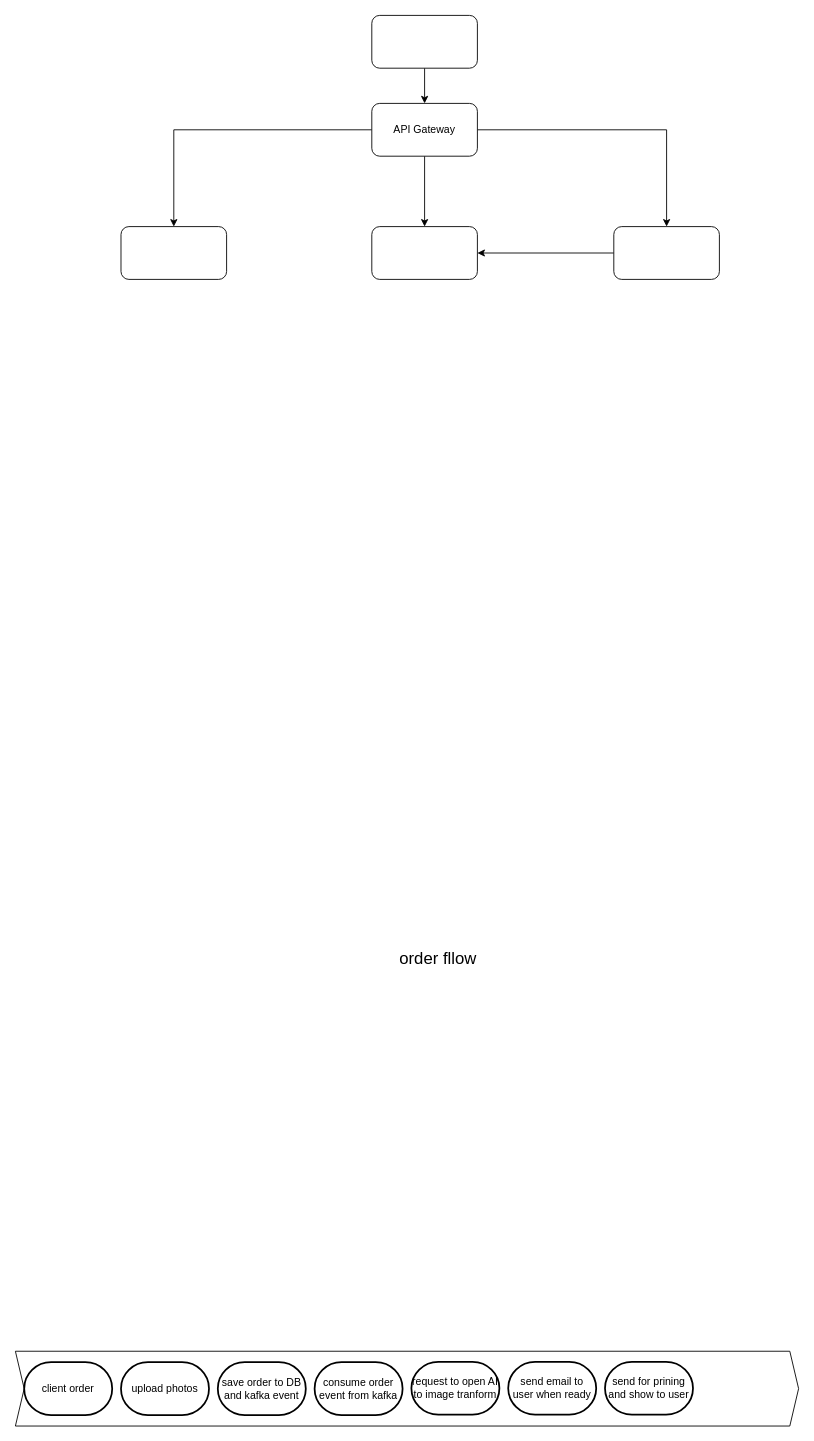
This 814x1441 diagram has some shape labels left out. The centre of each missing label's shape, as x and y in pixels:
"order" goes at pixel 666 252.
"photo-painter" goes at pixel 424 252.
"UI" goes at pixel 424 41.
"user" goes at pixel 173 252.
